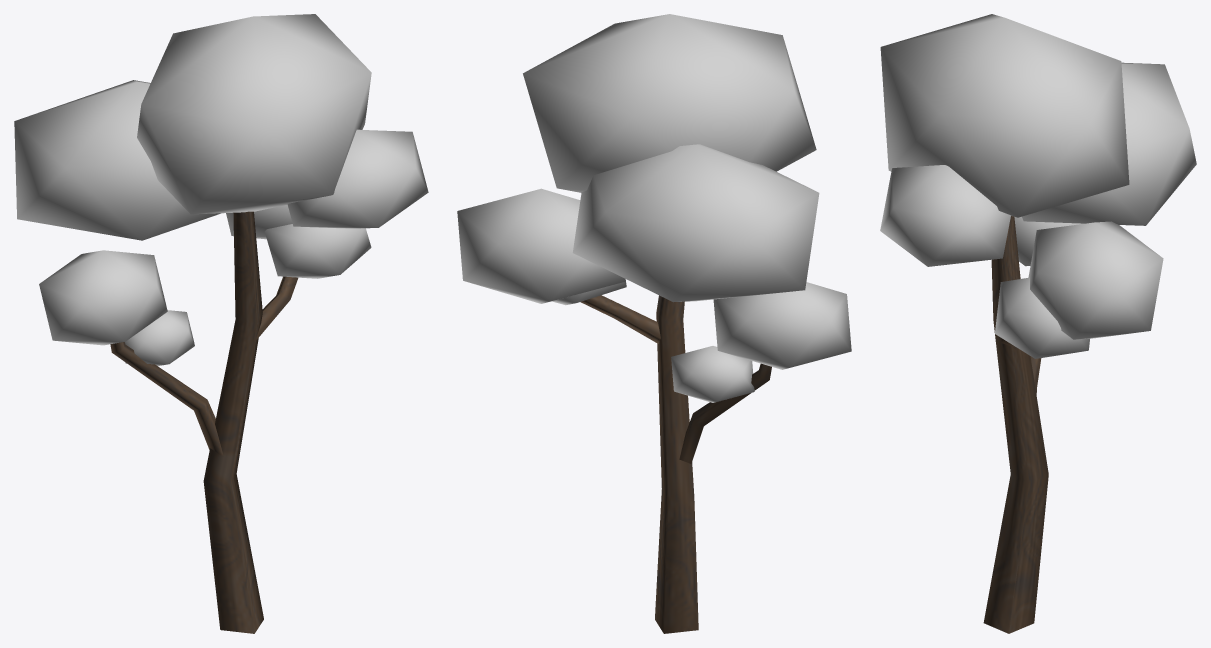
The model's file is Tree_001.FBX.
3 renders of one model, left to right at view 1: azimuth 30°, elevation 25°; view 2: azimuth 150°, elevation 25°; view 3: azimuth 270°, elevation 25°, orthographic.
Parts seen in each view (by area): view 1: Tree_001; view 2: Tree_001; view 3: Tree_001.
Part boxes in pixels (<box>): Tree_001: <box>14,14,428,633</box>; Tree_001: <box>457,14,851,633</box>; Tree_001: <box>880,14,1196,633</box>.
Bounding box in the file's own units: 399 × 313 × 665.
